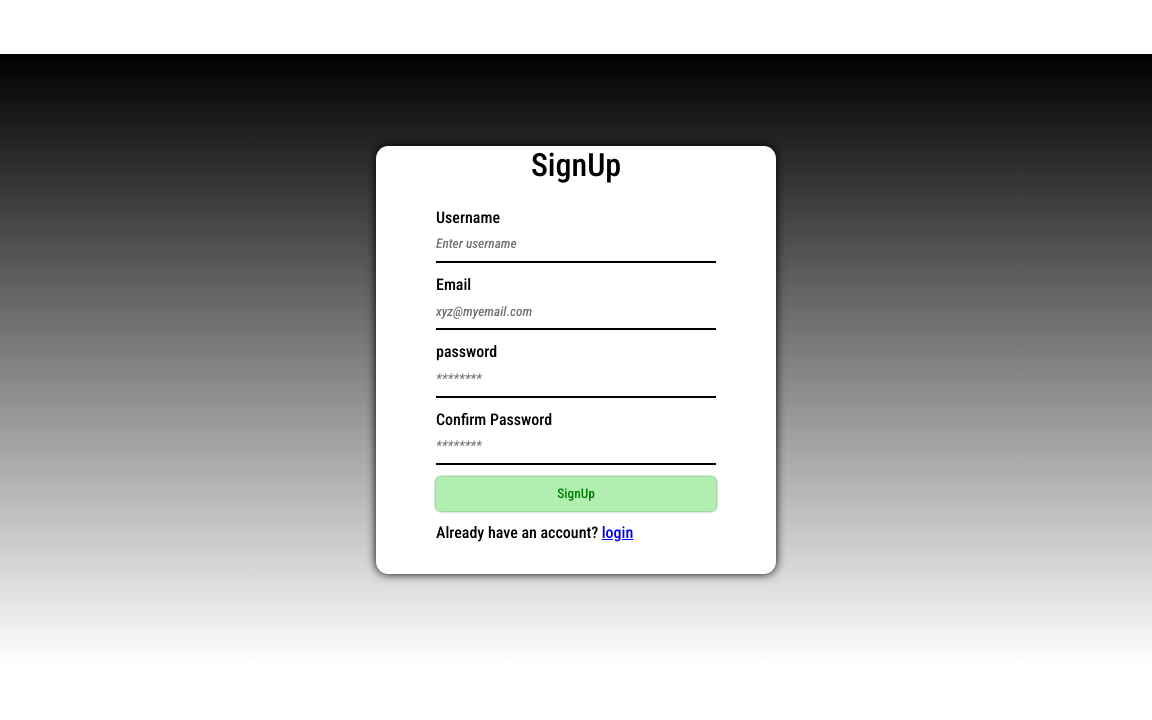
it: Sign up form › Wrong password submission
Type "testUser" into the field with placeholder "Enter username". click: point(576, 245)
box: [436,227,716,263]
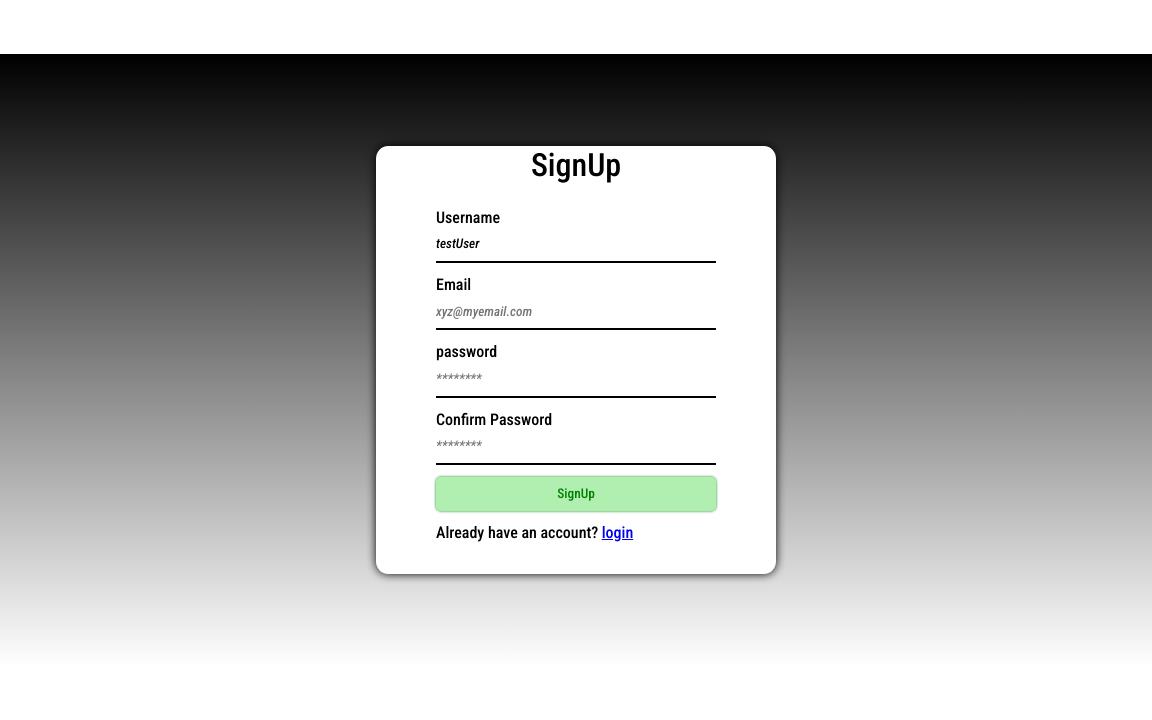
Type "xyztestuser@email.com" into the field with placeholder "xyz@myemail.com". click: point(576, 312)
box: [436,294,716,330]
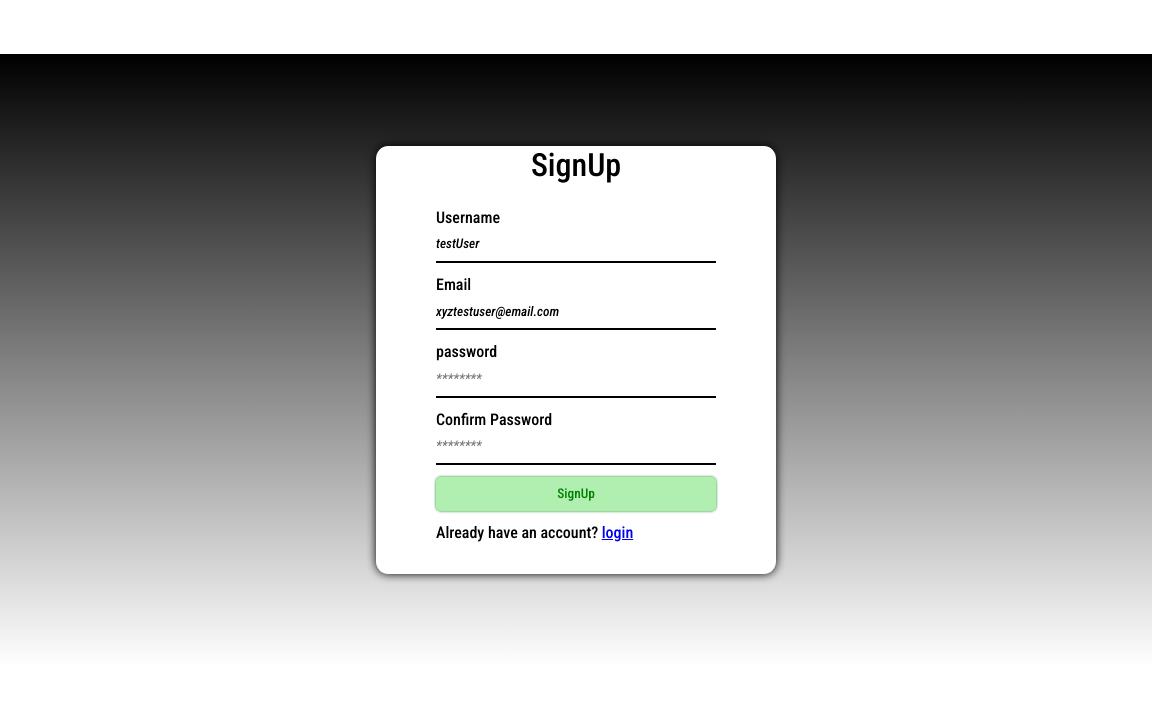
Type "testPassword123" into the 1st password field with placeholder "********". click: point(576, 379)
box: [436,361,716,398]
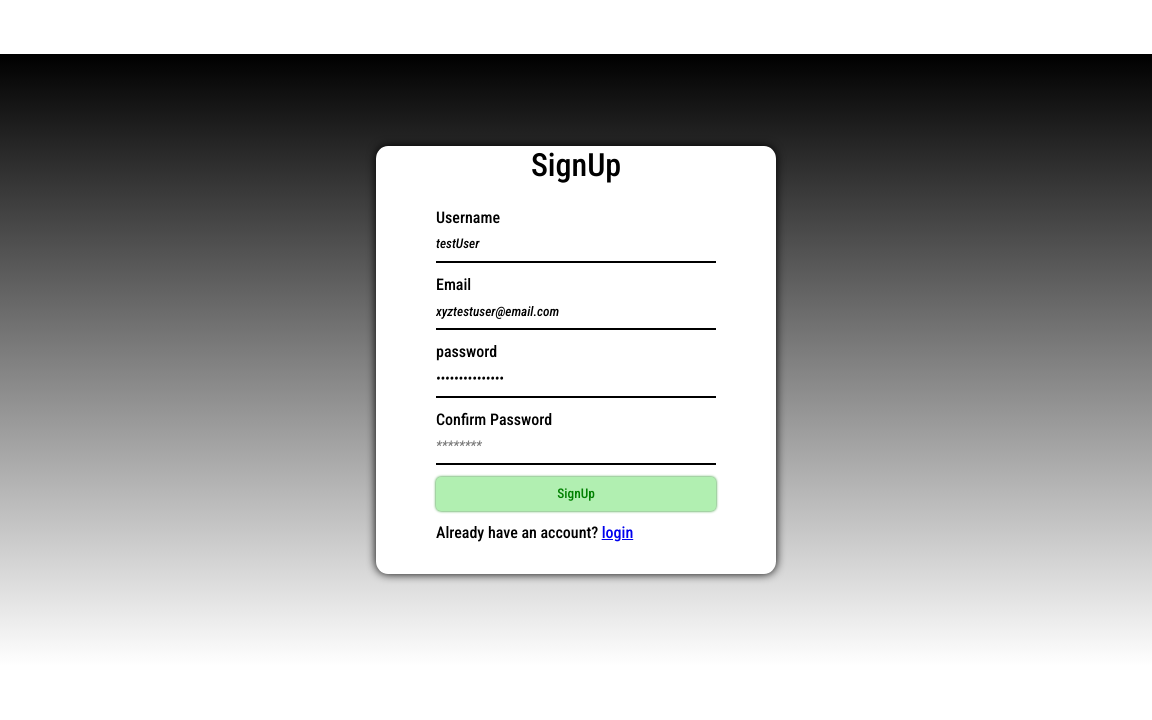
Type "testPassword456" into the password field with placeholder "********". click: point(576, 447)
box: [436,429,716,465]
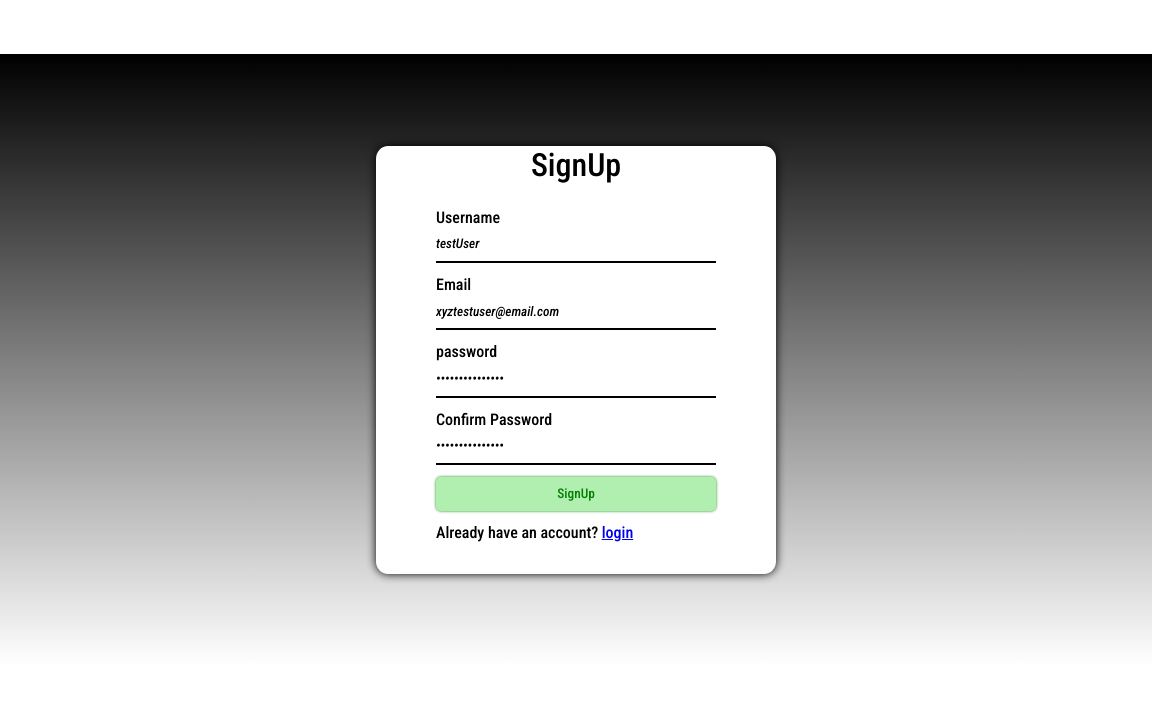
Click the button with aria-label "signUpSubmitButton". click: point(576, 494)
box: [436,477,716,511]
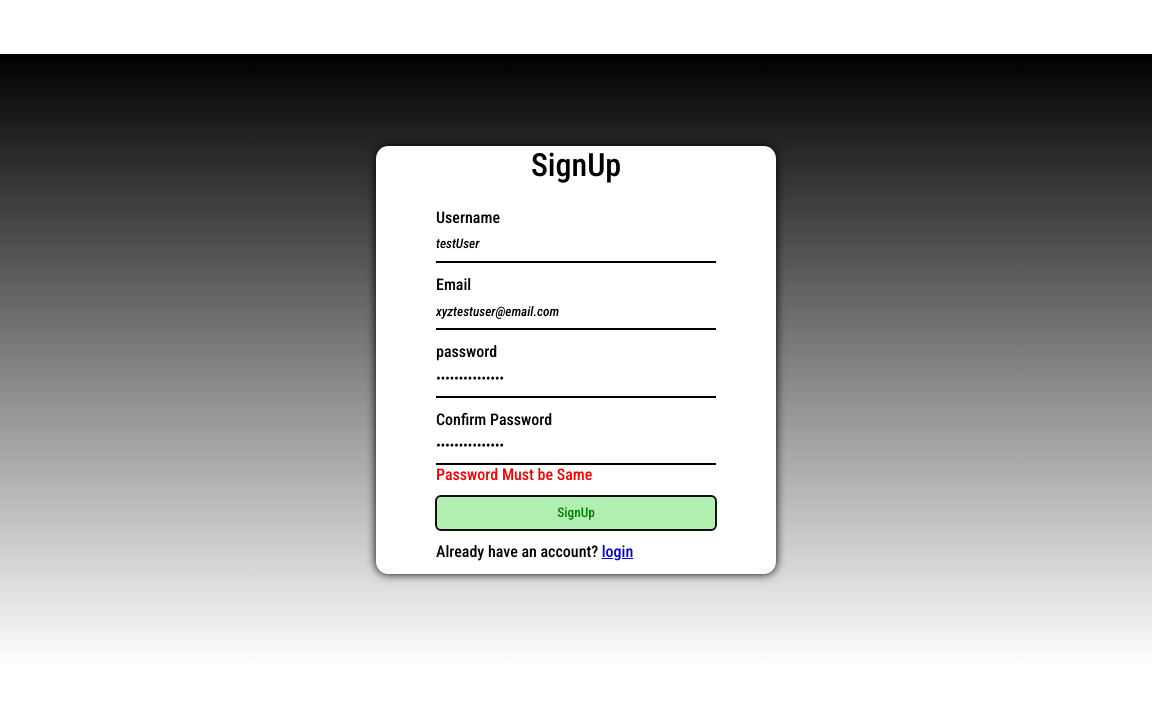
Expected: the text "Password Must be Same" is shown, [436,465,592,484]
